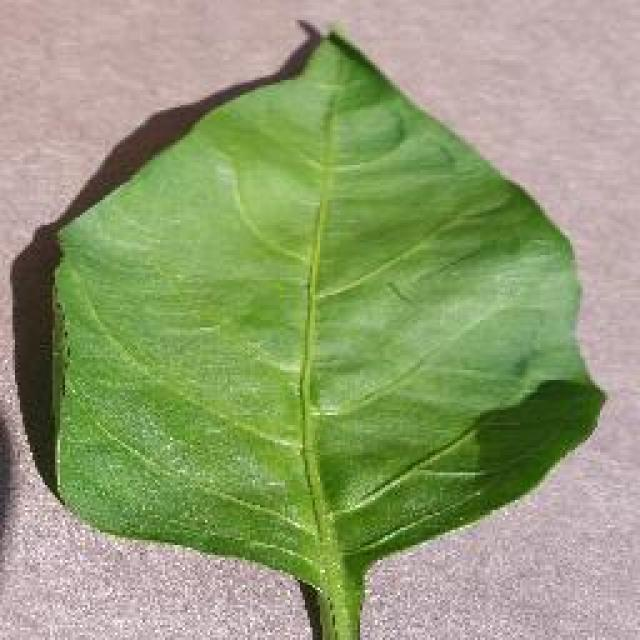Chilli_Healthy: (42, 20, 608, 638)
